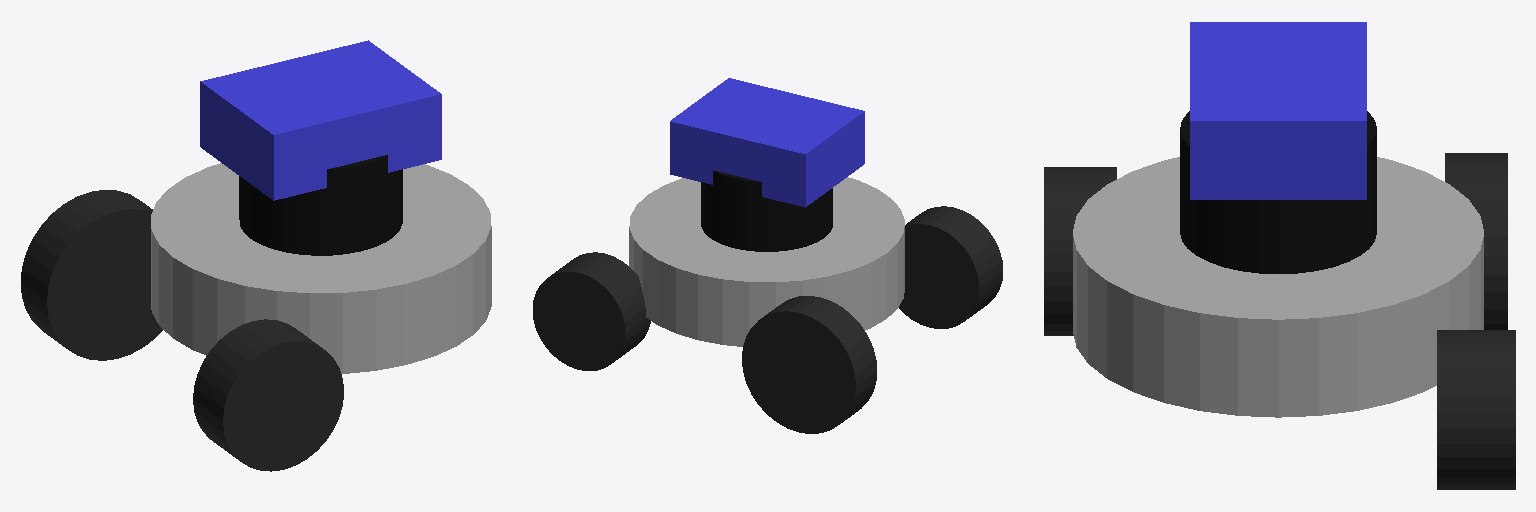
URDF robot description (evolved_robot):
<?xml version="1.0"?>
<robot name="evolved_robot">
  <material name="metal">
    <color rgba="0.7 0.7 0.7 1.0"/>
  </material>
  <material name="plastic">
    <color rgba="0.3 0.3 0.9 1.0"/>
  </material>
  <material name="rubber">
    <color rgba="0.1 0.1 0.1 1.0"/>
  </material>
  <material name="red">
    <color rgba="1.0 0.0 0.0 1.0"/>
  </material>
  <material name="wheel_material">
    <color rgba="0.2 0.2 0.2 1.0"/>
  </material>
  <link name="base_link">
    <visual>
      <geometry><cylinder radius="0.15382927939700256" length="0.08068832829829782"/></geometry>
      <material name="metal"/>
    </visual>
    <collision>
      <geometry><cylinder radius="0.15382927939700256" length="0.08068832829829782"/></geometry>
    </collision>
    <inertial>
      <mass value="5.0"/>
      <inertia ixx="0.0645841232691476" ixy="0" ixz="0" 
               iyy="0.0645841232691476" iyz="0" 
               izz="0.11831723599900537"/>
    </inertial>
  </link>
  <link name="link1">
    <visual>
      <geometry><cylinder radius="0.07361392834338261" length="0.17115775961517782"/></geometry>
      <material name="rubber"/>
    </visual>
    <collision>
      <geometry><cylinder radius="0.07361392834338261" length="0.17115775961517782"/></geometry>
    </collision>
    <inertial>
      <mass value="0.5"/>
      <inertia ixx="0.00379600083457675" ixy="0" ixz="0" 
               iyy="0.00379600083457675" iyz="0" 
               izz="0.0027095052230723345"/>
    </inertial>
  </link>
  <joint name="joint1" type="prismatic">
    <parent link="base_link"/>
    <child link="link1"/>
    <origin xyz="0 0 0.04034416414914891" rpy="0 0 0"/>
    <axis xyz="-0.5931464711903321 -0.4738167359431905 0.6509031913077378"/>
    <dynamics damping="0.7765132943335169" friction="0.1"/>
    <limit lower="-1.8508781419898999" upper="1.2616069225743036" effort="100" velocity="100"/>
  </joint>
  <link name="link2">
    <visual>
      <geometry>
        <cylinder radius="0.05979699237033912" length="0.05844196811389643"/>
      </geometry>
      <material name="wheel_material"/>
    </visual>
    <collision>
      <geometry>
        <cylinder radius="0.05979699237033912" length="0.05844196811389643"/>
      </geometry>
    </collision>
    <inertial>
      <mass value="1.0"/>
      <inertia ixx="0.0011785420438867394" ixy="0" ixz="0" 
               iyy="0.0011785420438867394" iyz="0" 
               izz="0.0017878401482691974"/>
    </inertial>
  </link>
  <joint name="joint2" type="continuous">
    <parent link="base_link"/>
    <child link="link2"/>
    <origin xyz="0.13985519542031713 0.147803363373688 -0.04034416414914891" rpy="1.5708 0 0"/>
    <axis xyz="0 1 0"/>
    <dynamics damping="0.6237323492205411" friction="0.1"/>
  </joint>
  <link name="link3">
    <visual>
      <geometry><cylinder radius="0.069873774119808" length="0.052851479769380164"/></geometry>
      <material name="metal"/>
    </visual>
    <collision>
      <geometry><cylinder radius="0.069873774119808" length="0.052851479769380164"/></geometry>
    </collision>
    <inertial>
      <mass value="0.5"/>
      <inertia ixx="0.001453359320254254" ixy="0" ixz="0" 
               iyy="0.001453359320254254" iyz="0" 
               izz="0.002441172154872975"/>
    </inertial>
  </link>
  <joint name="joint3" type="revolute">
    <parent link="base_link"/>
    <child link="link3"/>
    <origin xyz="0 0 0.09034416414914892" rpy="0 0 0"/>
    <axis xyz="-0.5345545602453263 0.7472236115789106 -0.39485224631486543"/>
    <dynamics damping="0.8238788567566303" friction="0.1"/>
    <limit lower="-0.7345191566587939" upper="1.2169395730998822" effort="100" velocity="100"/>
  </joint>
  <link name="link4">
    <visual>
      <geometry>
        <cylinder radius="0.07356683024934896" length="0.0475468977467914"/>
      </geometry>
      <material name="wheel_material"/>
    </visual>
    <collision>
      <geometry>
        <cylinder radius="0.07356683024934896" length="0.0475468977467914"/>
      </geometry>
    </collision>
    <inertial>
      <mass value="1.0"/>
      <inertia ixx="0.001541411918679451" ixy="0" ixz="0" 
               iyy="0.001541411918679451" iyz="0" 
               izz="0.0027060392564682624"/>
    </inertial>
  </link>
  <joint name="joint4" type="continuous">
    <parent link="base_link"/>
    <child link="link4"/>
    <origin xyz="-0.13985519542031713 0.147803363373688 -0.04034416414914891" rpy="1.5708 0 0"/>
    <axis xyz="0 1 0"/>
    <dynamics damping="0.4452985084493982" friction="0.1"/>
  </joint>
  <link name="link5">
    <visual>
      <geometry><box size="0.17494639463942896 0.13218542554824703 0.0653079719149393"/></geometry>
      <material name="plastic"/>
    </visual>
    <collision>
      <geometry><box size="0.17494639463942896 0.13218542554824703 0.0653079719149393"/></geometry>
    </collision>
    <inertial>
      <mass value="0.5"/>
      <inertia ixx="0.001811509826917805" ixy="0" ixz="0" 
               iyy="0.00290594768274811" iyz="0" 
               izz="0.004006602310392165"/>
    </inertial>
  </link>
  <joint name="joint5" type="revolute">
    <parent link="base_link"/>
    <child link="link5"/>
    <origin xyz="0 0 0.1403441641491489" rpy="0 0 0"/>
    <axis xyz="-0.6775291648128731 0.26977987840232037 0.6842317210106531"/>
    <dynamics damping="0.9085849821180177" friction="0.1"/>
    <limit lower="-0.9449634106549294" upper="1.0316253842274055" effort="100" velocity="100"/>
  </joint>
  <link name="link6">
    <visual>
      <geometry>
        <cylinder radius="0.06308729785767267" length="0.05400195749273819"/>
      </geometry>
      <material name="wheel_material"/>
    </visual>
    <collision>
      <geometry>
        <cylinder radius="0.06308729785767267" length="0.05400195749273819"/>
      </geometry>
    </collision>
    <inertial>
      <mass value="1.0"/>
      <inertia ixx="0.0012380194054996362" ixy="0" ixz="0" 
               iyy="0.0012380194054996362" iyz="0" 
               izz="0.0019900035754913553"/>
    </inertial>
  </link>
  <joint name="joint6" type="continuous">
    <parent link="base_link"/>
    <child link="link6"/>
    <origin xyz="-0.13985519542031713 -0.147803363373688 -0.04034416414914891" rpy="1.5708 0 0"/>
    <axis xyz="0 1 0"/>
    <dynamics damping="0.5100125765798248" friction="0.1"/>
  </joint>
</robot>

--- Render facts (derived) ---
Views: 3 orthographic renders of the robot side by side, from view 1: azimuth 30°, elevation 25°; view 2: azimuth 150°, elevation 25°; view 3: azimuth 270°, elevation 25°.
Robot: evolved_robot — 7 links, 6 joints (2 revolute, 3 continuous, 1 prismatic); root link base_link; default pose: every joint at zero.
Links seen in each view (by area): view 1: base_link, link5, link4, link6, link1; view 2: base_link, link5, link4, link2, link6, link1; view 3: base_link, link5, link1, link2, link6, link4.
Link boxes in pixels (x1,y1,x2,y2): base_link: [151, 163, 491, 373]; link5: [200, 40, 441, 200]; link4: [21, 190, 162, 360]; link6: [193, 319, 343, 471]; link1: [239, 155, 402, 255]; base_link: [629, 177, 904, 346]; link5: [670, 78, 864, 207]; link4: [742, 296, 876, 433]; link2: [533, 252, 650, 370]; link6: [899, 206, 1002, 328]; link1: [701, 170, 832, 251]; base_link: [1073, 157, 1483, 417]; link5: [1190, 22, 1366, 199]; link1: [1180, 111, 1376, 273]; link2: [1437, 330, 1515, 489]; link6: [1044, 167, 1116, 335]; link4: [1445, 153, 1507, 329].
Bounding box of the posed robot: 0.4131 × 0.3518 × 0.2869 m (x, y, z).
Geometry: primitives only (box / cylinder / sphere), no mesh files.